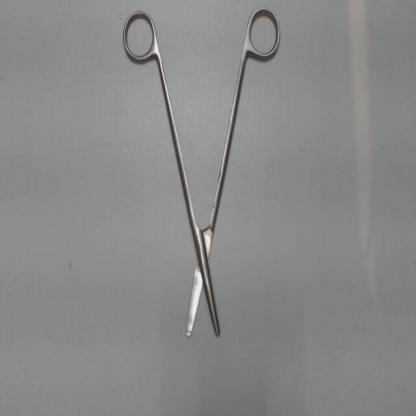9 Metzenbaum Scissors: (116, 2, 288, 344)
